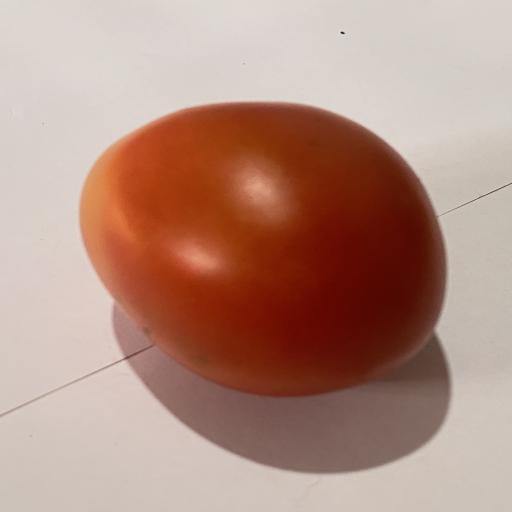ripe: (80, 102, 446, 396)
